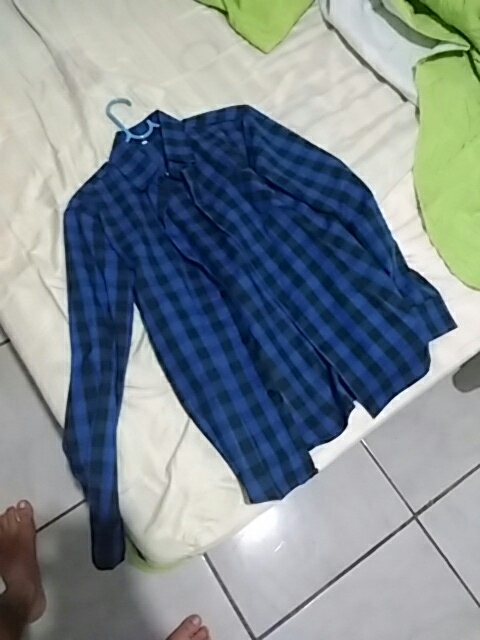shirts: (42, 112, 456, 560)
